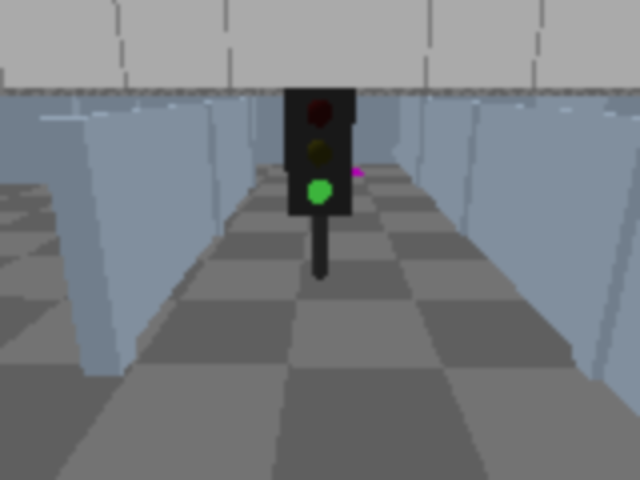traffic_light: (284, 76, 355, 287)
